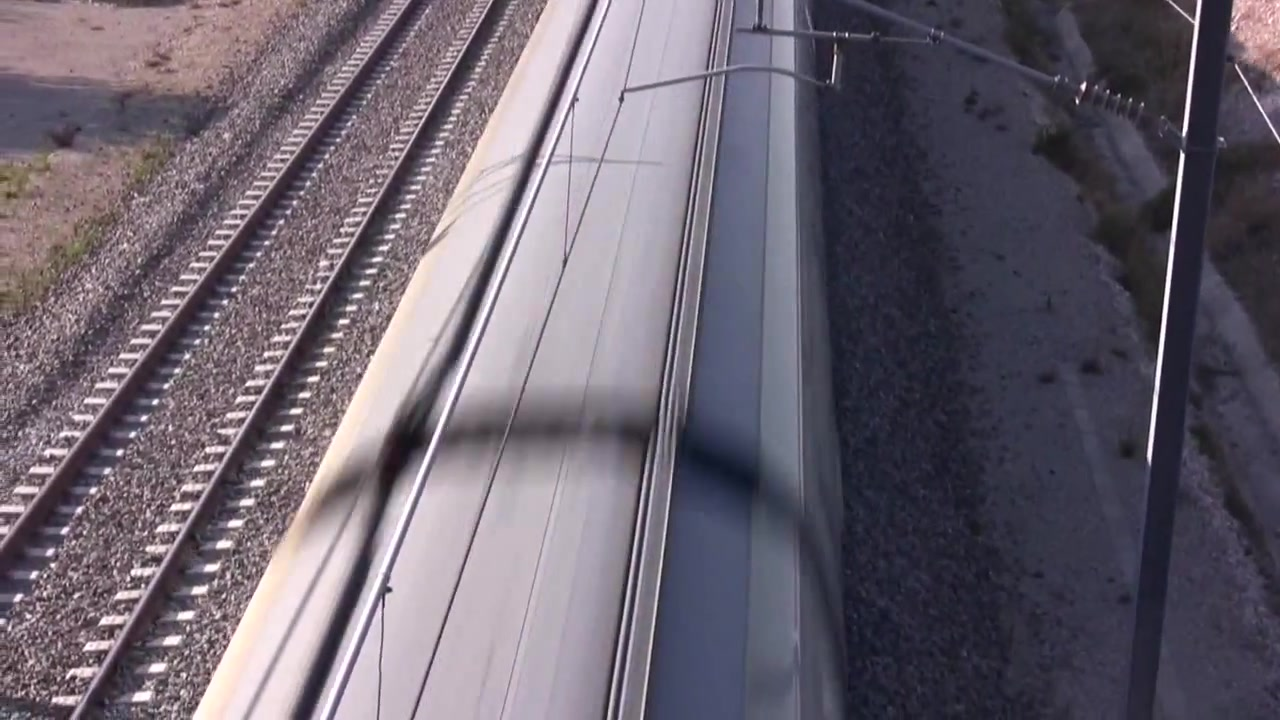train: (188, 1, 840, 720)
